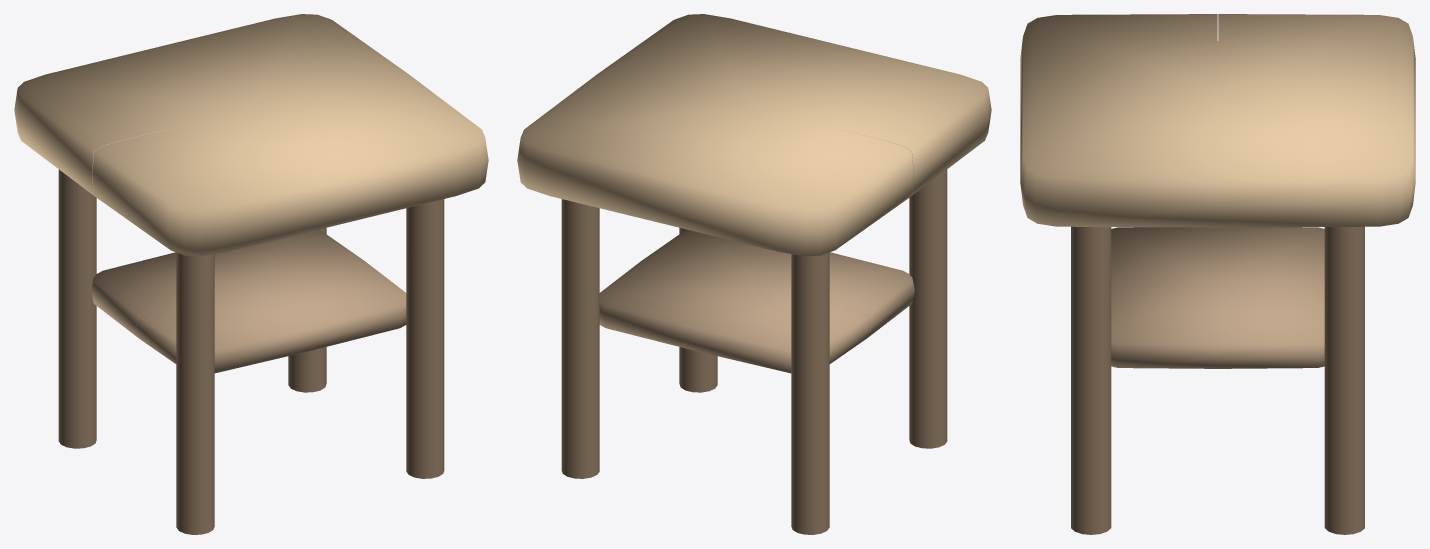
File: side_table_500x500.glb
The picture shows the model from 3 angles, left to right: view 1: azimuth 30°, elevation 25°; view 2: azimuth 150°, elevation 25°; view 3: azimuth 270°, elevation 25°; orthographic projection. The views are drawn at different scales.
Visible parts, largest first — view 1: rounded_stone_top, round_table_leg (×4), thin_lower_shelf; view 2: rounded_stone_top, round_table_leg (×4), thin_lower_shelf; view 3: rounded_stone_top, thin_lower_shelf, round_table_leg (×2).
Part boxes in pixels (box(x1,y1,x2,y2)): rounded_stone_top: box(14, 14, 488, 256); round_table_leg (×4): box(58, 169, 444, 534); thin_lower_shelf: box(91, 229, 406, 373); rounded_stone_top: box(517, 14, 991, 256); round_table_leg (×4): box(561, 169, 947, 534); thin_lower_shelf: box(599, 229, 914, 373); rounded_stone_top: box(1020, 14, 1415, 227); thin_lower_shelf: box(1111, 227, 1324, 368); round_table_leg (×2): box(1071, 226, 1364, 534).
Bounding box in the file's own units: 0.5 × 0.52 × 0.4986.
